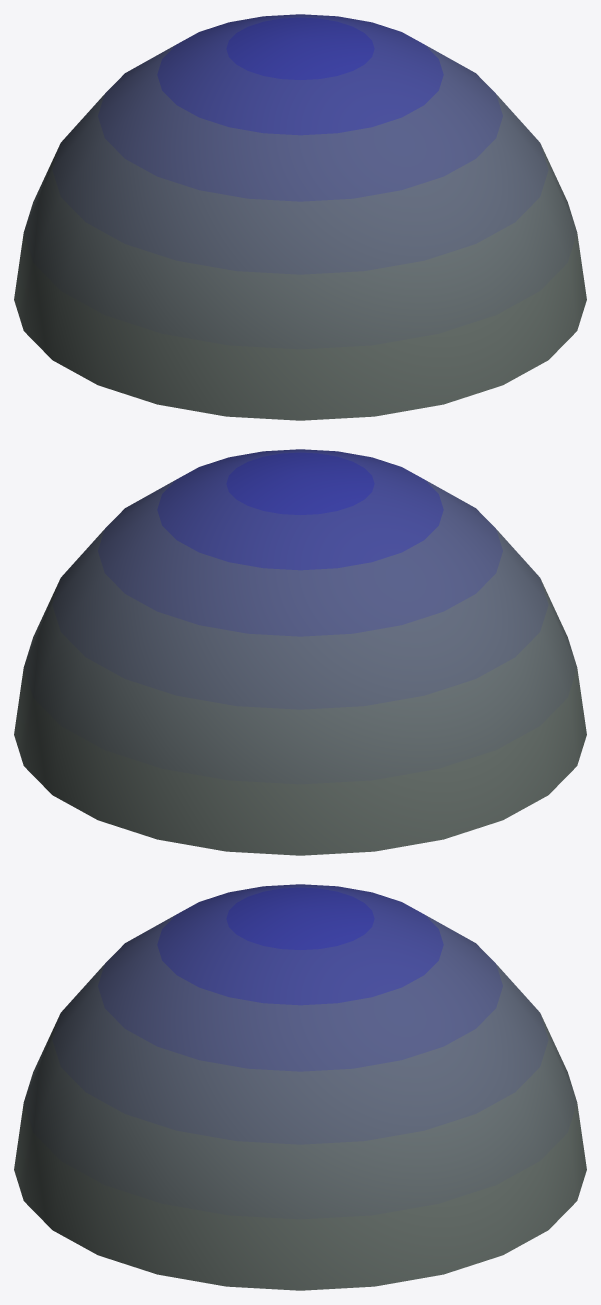
Rendered from Dome.fbx.
3 renders of one model, top to bottom at view 1: azimuth 30°, elevation 25°; view 2: azimuth 150°, elevation 25°; view 3: azimuth 270°, elevation 25°, orthographic.
Parts seen in each view (by area): view 1: Mesh; view 2: Mesh; view 3: Mesh.
Boxes of the visible parts, x1,y1,x2,y2 form: Mesh: (14, 14, 586, 420); Mesh: (14, 449, 586, 855); Mesh: (14, 884, 586, 1290).
Bounding box in the file's own units: 99.98 × 50 × 99.98.
